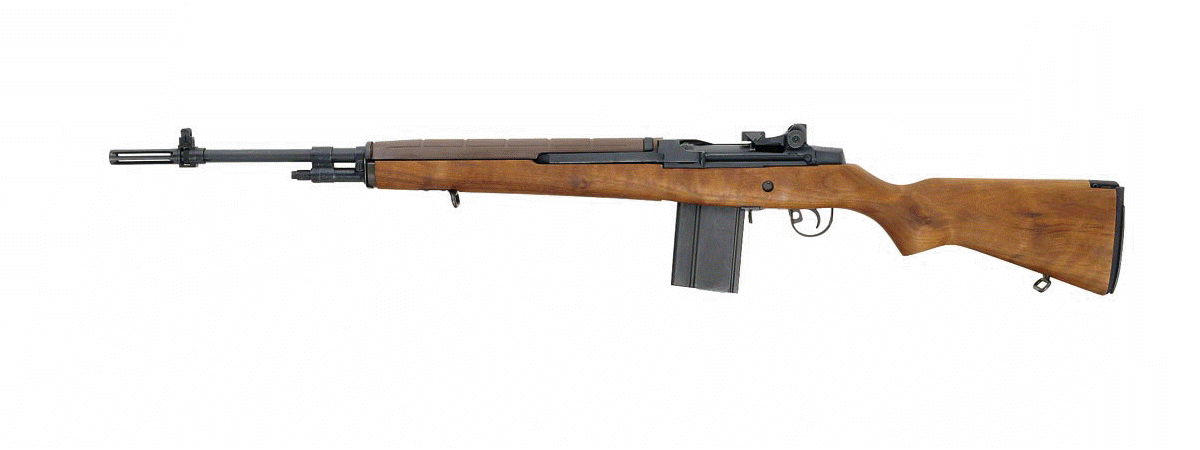Arma Real: (109, 127, 1129, 315)
